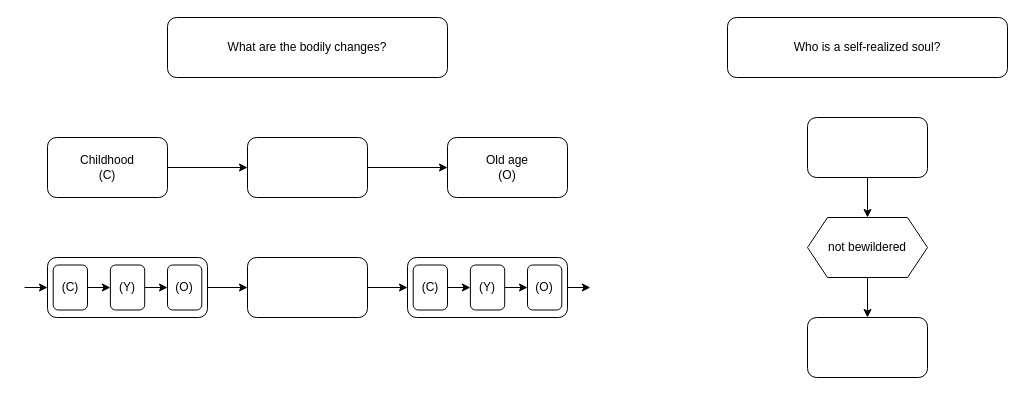
This 1025x395 diagram has some shape labels left out. The shapes that lost their labels are listed below. From the top down, each one's box as (x1, y1, x2, y2) in pixels, then its label:
(246, 136, 368, 198): Youth (Y)
(806, 116, 928, 178): One who is
(246, 256, 368, 318): Soul changes body
(806, 316, 928, 378): by bodily changes.
